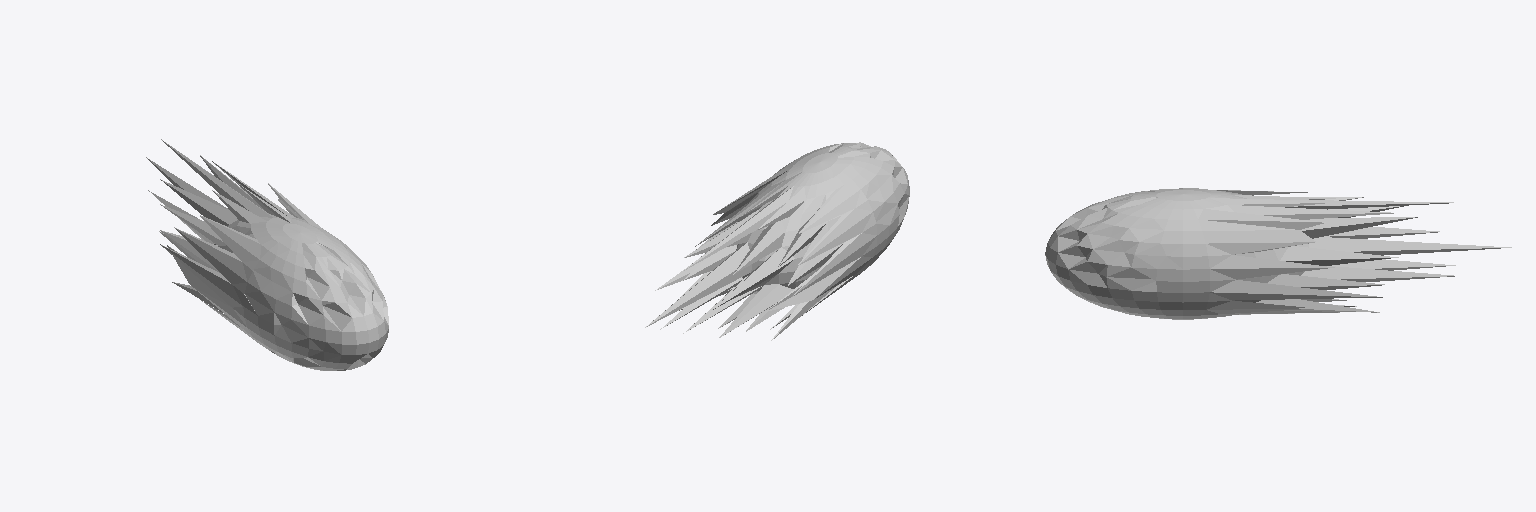
Rendered from bolt.obj.
3 renders of one model, left to right at view 1: azimuth 30°, elevation 25°; view 2: azimuth 150°, elevation 25°; view 3: azimuth 270°, elevation 25°, orthographic.
Size of the model in its own units: 1.03 by 0.9582 by 3.42.